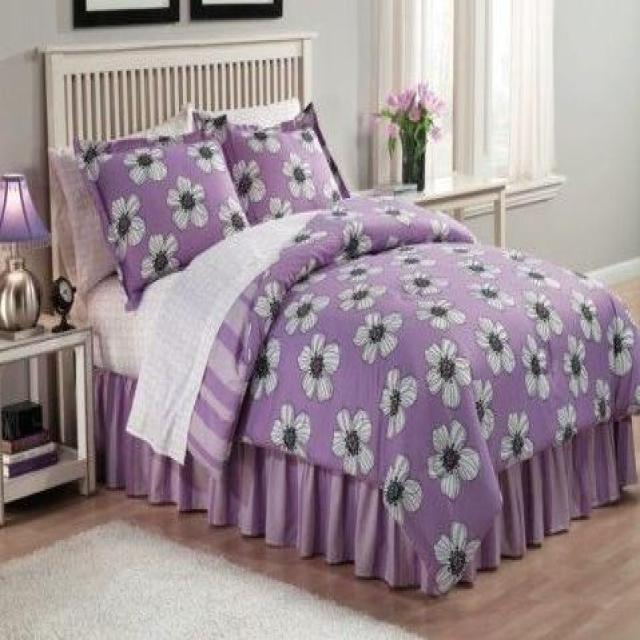bed: (38, 29, 640, 599)
